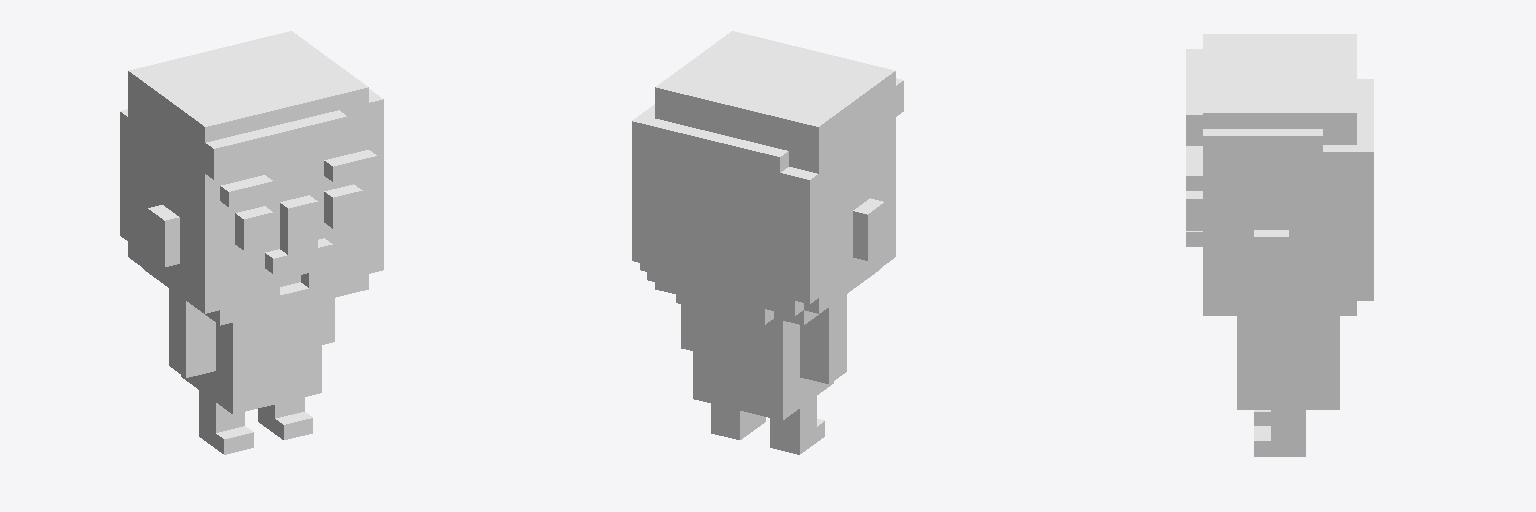
File: nick.obj
The picture shows the model from 3 angles: view 1: azimuth 30°, elevation 25°; view 2: azimuth 150°, elevation 25°; view 3: azimuth 270°, elevation 25°; orthographic projection.
Parts seen in each view (by area): view 1: chr-nick; view 2: chr-nick; view 3: chr-nick.
Part boxes in pixels (x1,y1,x2,y2): chr-nick: (120, 31, 383, 454); chr-nick: (632, 31, 903, 454); chr-nick: (1186, 34, 1373, 456).
Size of the model in its own units: 0.77 by 1.26 by 0.605.